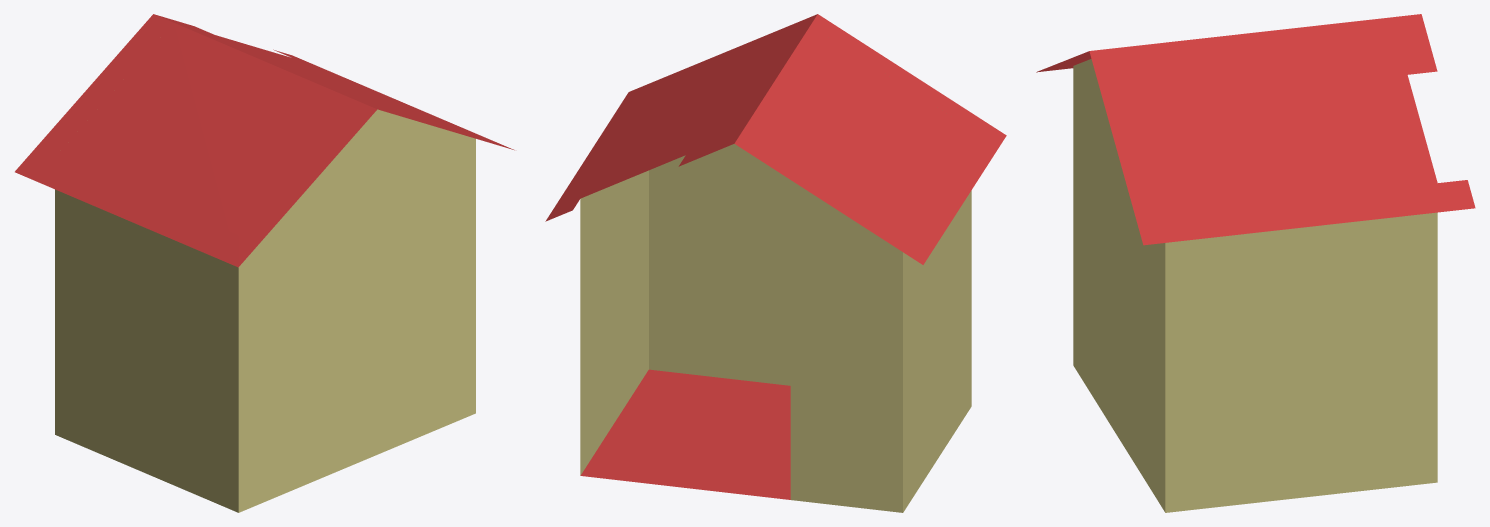
3 renders of one model, left to right at view 1: azimuth 30°, elevation 25°; view 2: azimuth 150°, elevation 25°; view 3: azimuth 270°, elevation 25°, orthographic. The views are drawn at different scales.
Size of the model in its own units: 12.02 by 10.65 by 10.45.
